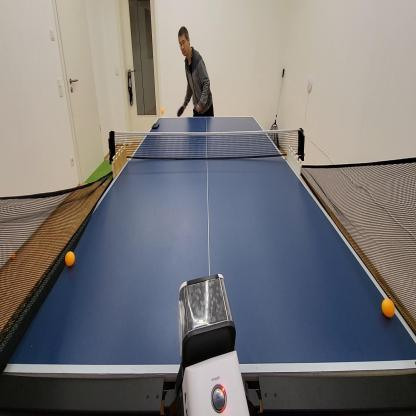Ball: (383, 299, 395, 316), (65, 250, 75, 266), (11, 252, 16, 258), (160, 108, 164, 115), (102, 181, 106, 187)
